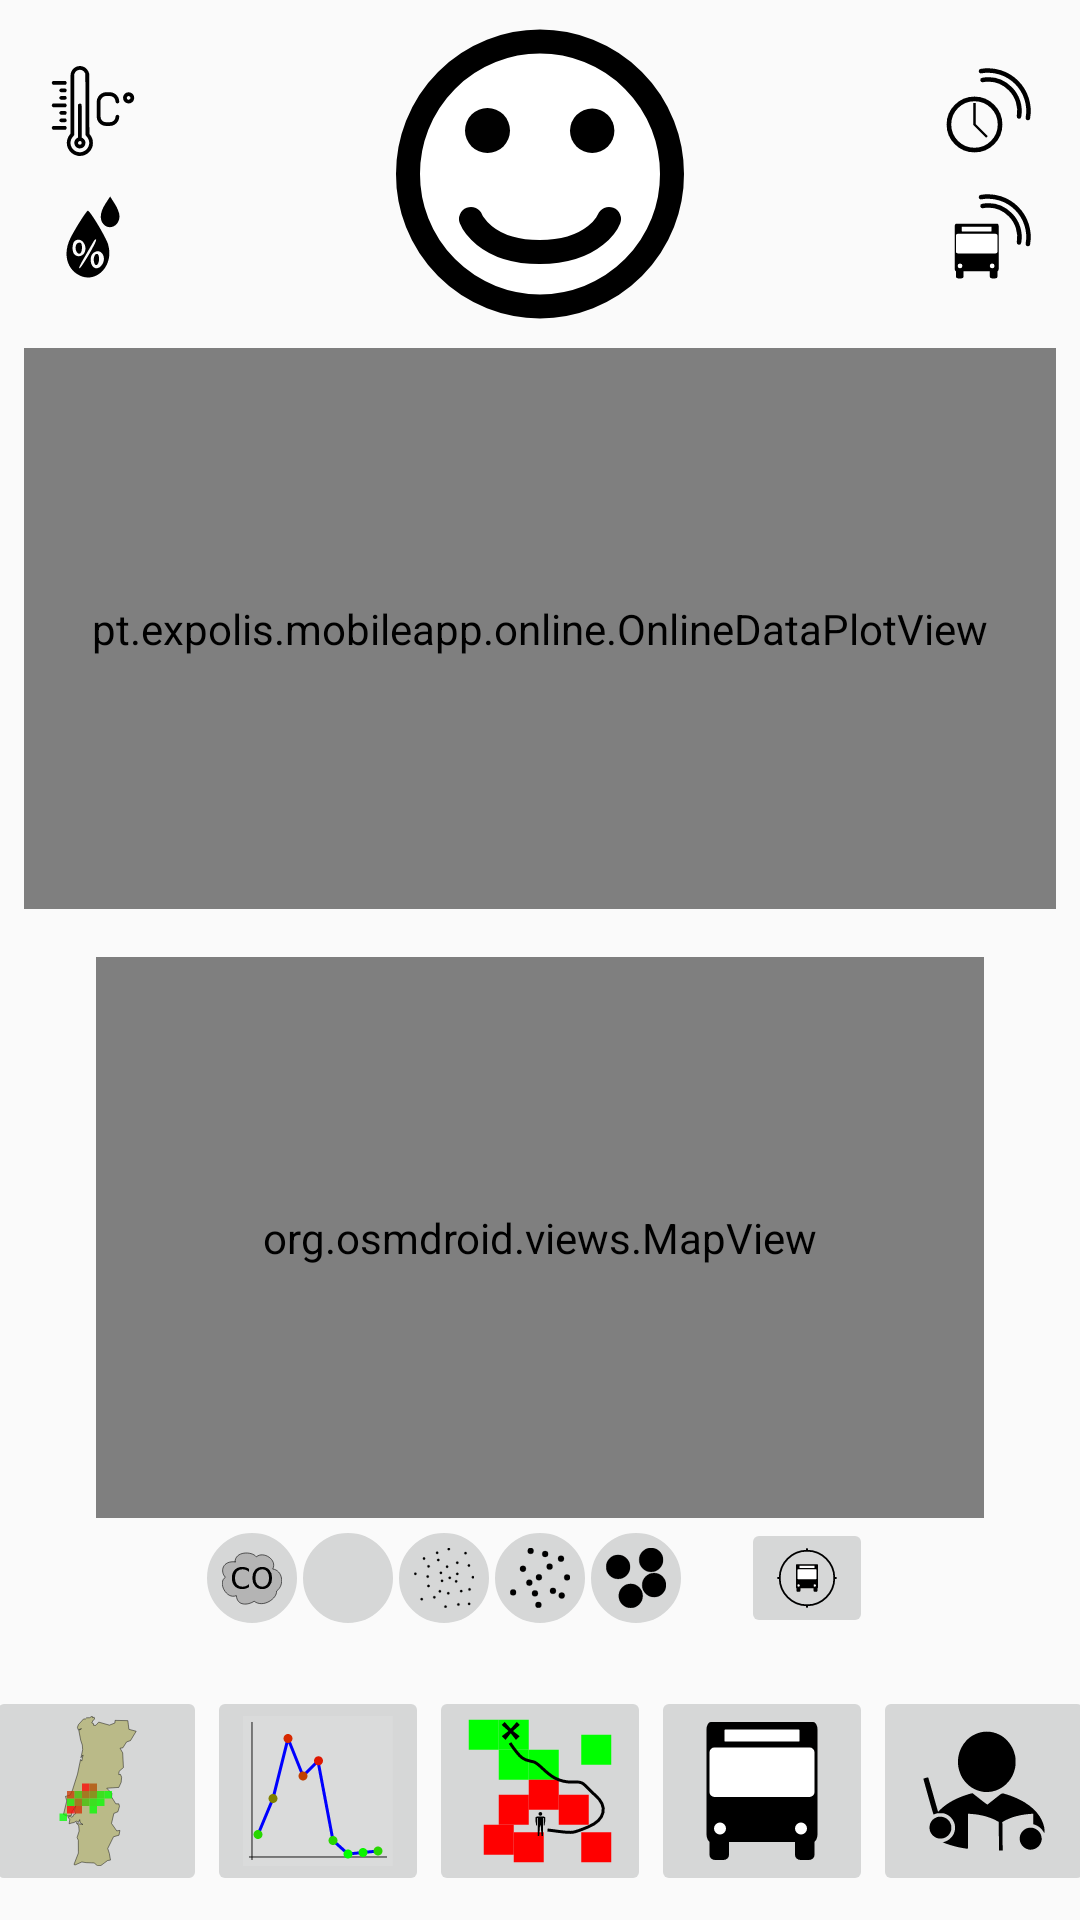

Point at icon controls on the screen. Image size 1080px×1920px, points as (x,y).
od follow bus: (807,1578)
od plot chart: (318,1791)
od plot map: (97,1791)
od pm: (444,1578), (540,1578), (636,1578)
od tutorial: (982,1791)
overall air quality index: (540,174)
select bus: (762,1791)
Show planner: (540,1791)
